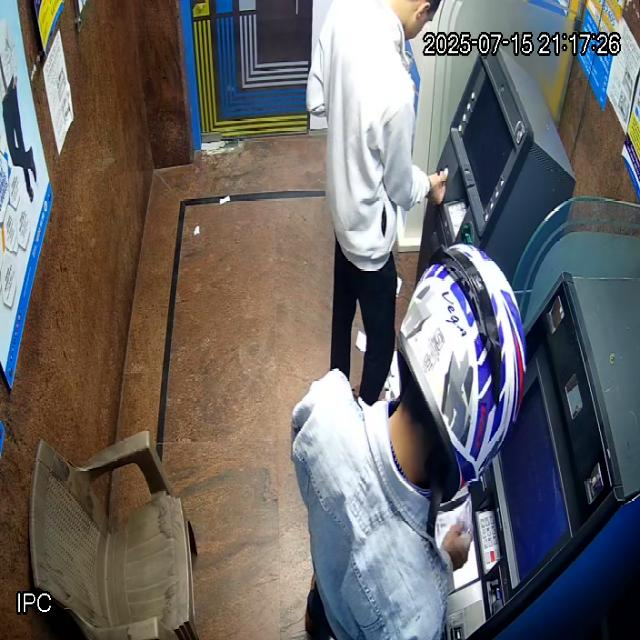helmet: (388, 243, 527, 512)
no_helmet: (388, 0, 442, 43)
